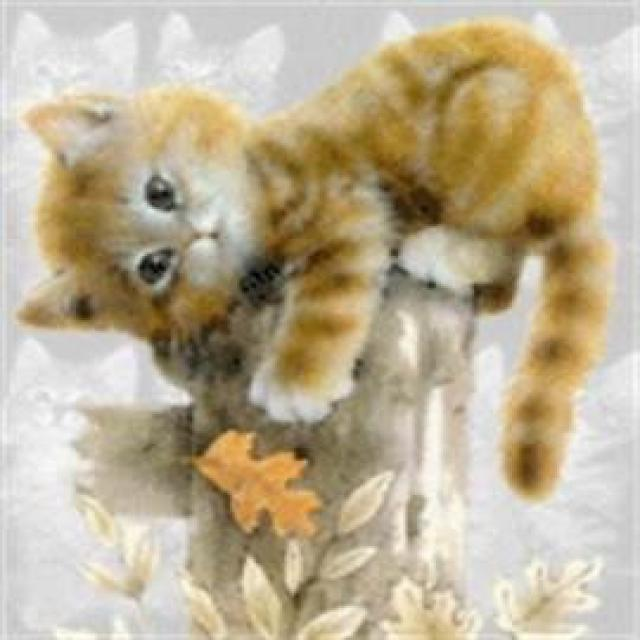KEDI: (10, 24, 599, 496)
